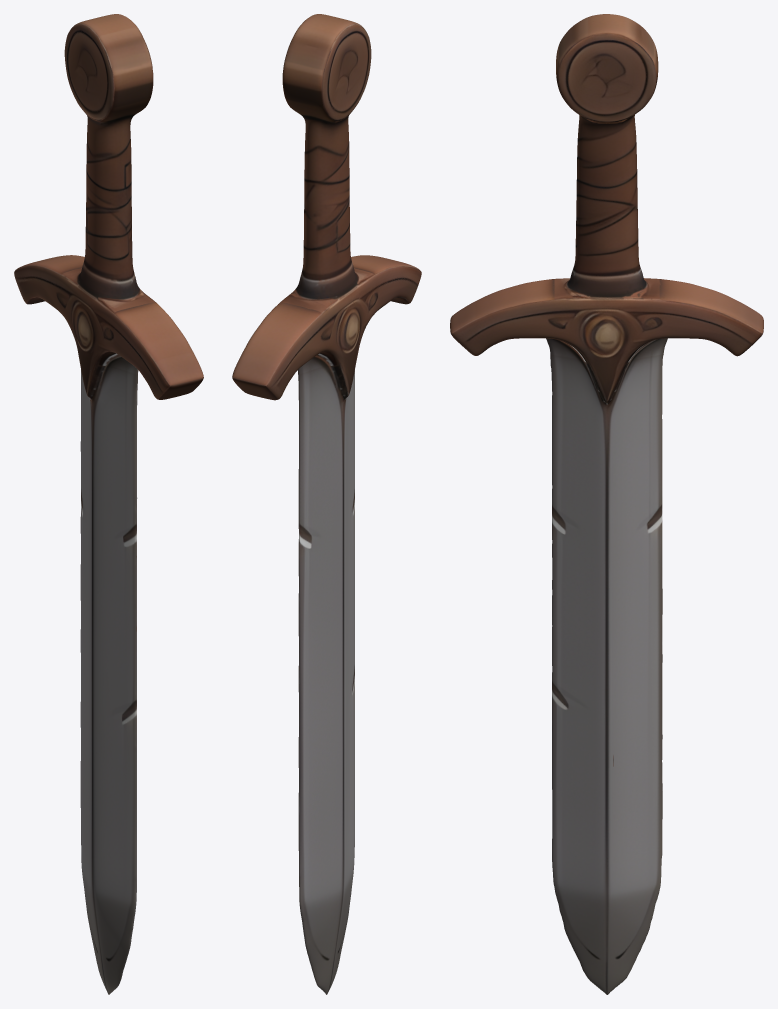
Rendered from Sword 11.fbx.
3 views of the same model, side by side, from view 1: azimuth 30°, elevation 25°; view 2: azimuth 150°, elevation 25°; view 3: azimuth 270°, elevation 25° (orthographic).
Parts seen in each view (by area): view 1: Sword 11; view 2: Sword 11; view 3: Sword 11.
Part boxes in pixels (box(x1,y1,x2,y2)): Sword 11: box(14, 14, 203, 994); Sword 11: box(232, 14, 421, 994); Sword 11: box(450, 14, 763, 994).
Bounding box in the file's own units: 10.37 × 189 × 55.12.
Materials: 1 (1 with a texture image).
